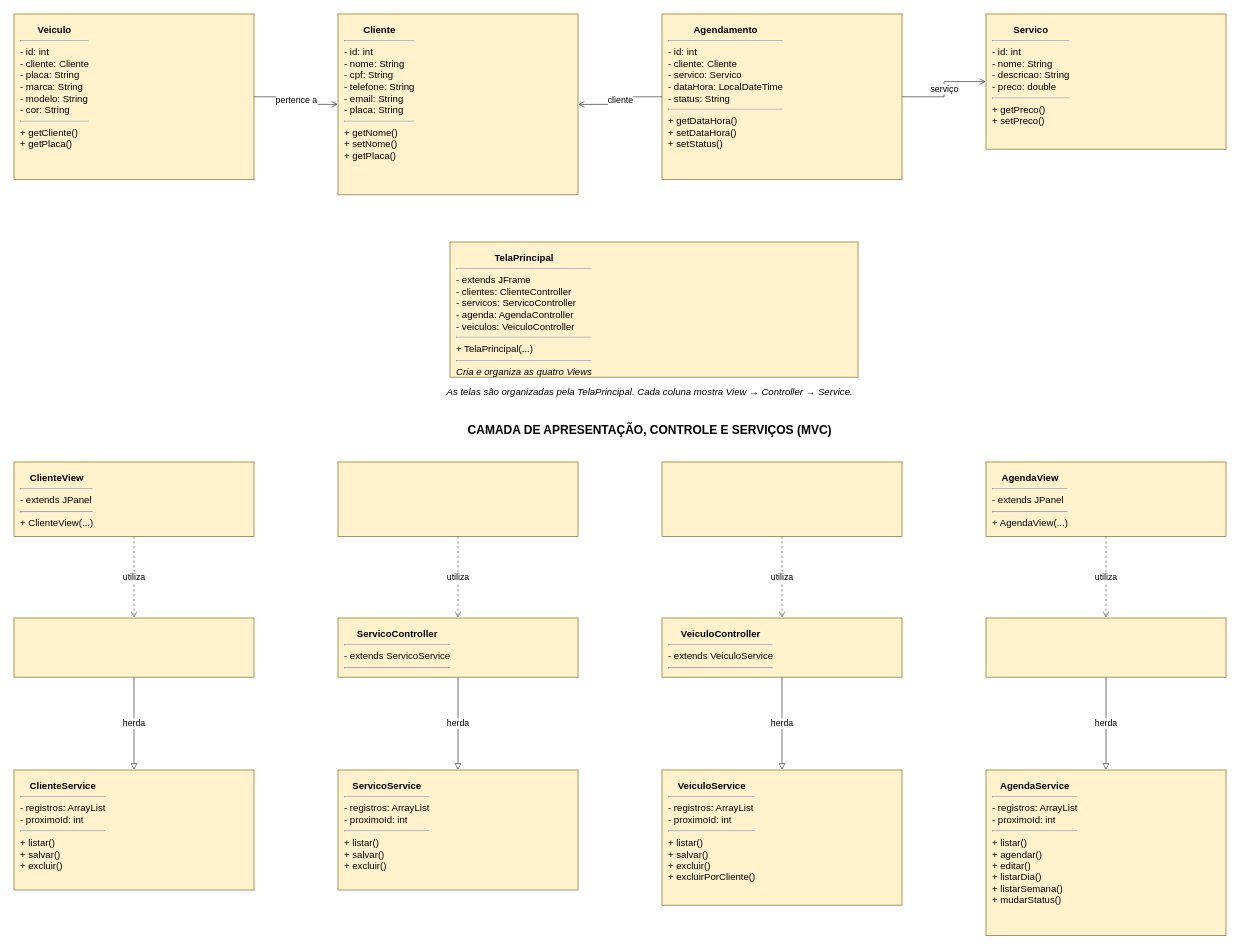
This 1240x950 diagram has some shape labels left out. The centre of each missing label's shape, as x and y in pixels:
"AgendaController - extends AgendaService" belongs at [1105,647].
"ClienteController - extends ClienteService" belongs at [133,647].
"ServicoView - extends JPanel + ServicoView(...)" belongs at [457,498].
"VeiculoView - extends JPanel + VeiculoView(...)" belongs at [781,498].
